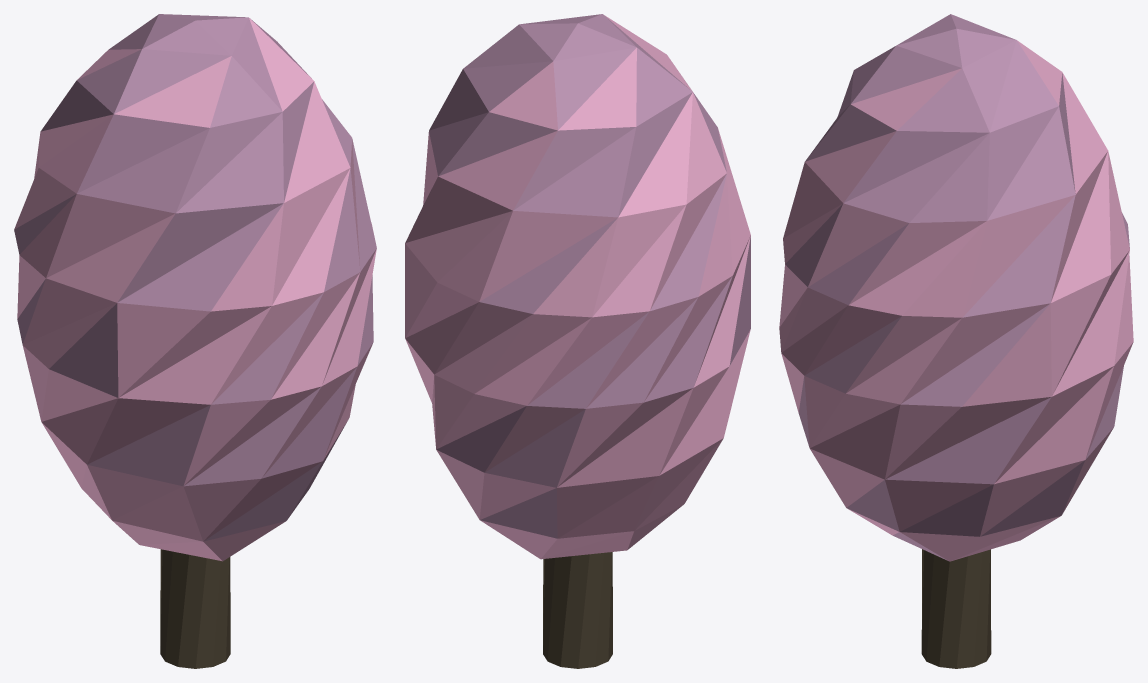
File: spring_fullblossom3.dae
3 views of the same model, side by side, from view 1: azimuth 30°, elevation 25°; view 2: azimuth 150°, elevation 25°; view 3: azimuth 270°, elevation 25° (orthographic).
Visible parts, largest first — view 1: Kugel, Zylinder; view 2: Kugel, Zylinder; view 3: Kugel, Zylinder.
Boxes of the visible parts, box(x1,y1,x2,y2) form: Kugel: box(14, 14, 376, 561); Zylinder: box(160, 549, 230, 668); Kugel: box(405, 14, 750, 559); Zylinder: box(543, 552, 612, 668); Kugel: box(779, 14, 1133, 561); Zylinder: box(921, 549, 991, 668).
Bounding box in the file's own units: 15.14 × 30.05 × 15.43.
